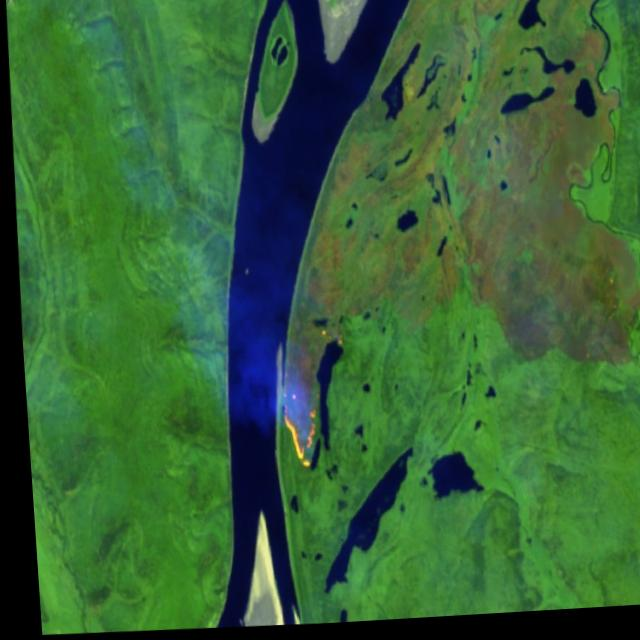fire: (269, 387, 319, 474)
